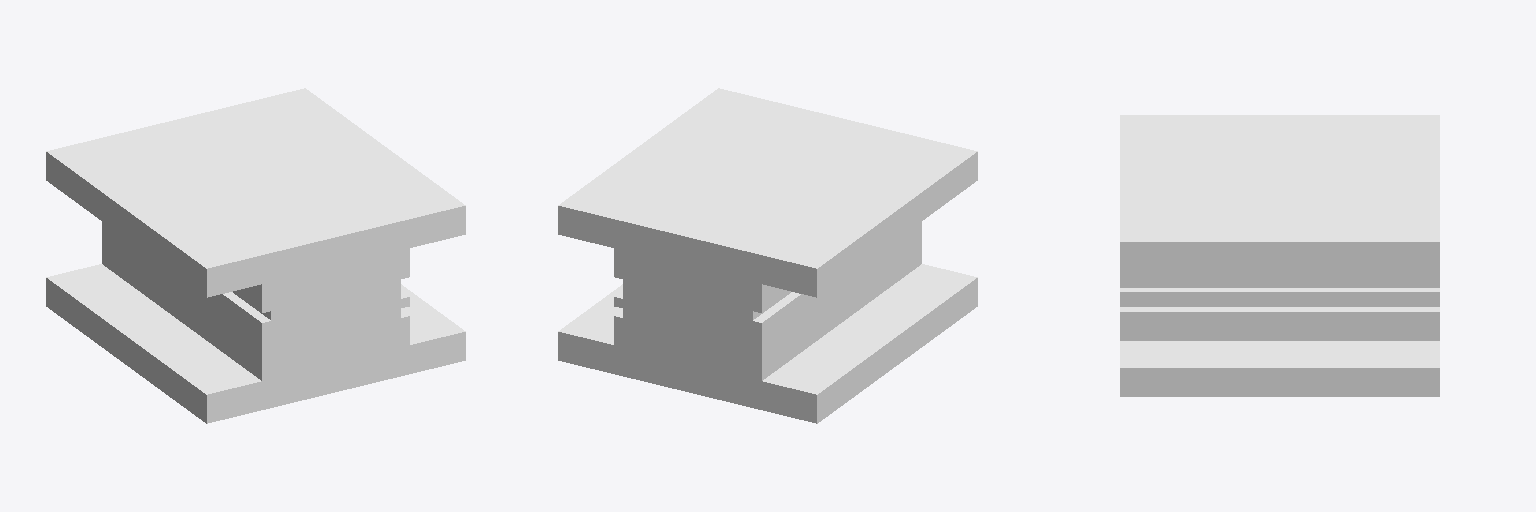
File: springBoard.obj
The picture shows the model from 3 angles: view 1: azimuth 30°, elevation 25°; view 2: azimuth 150°, elevation 25°; view 3: azimuth 270°, elevation 25°; orthographic projection.
Parts seen in each view (by area): view 1: object 1; view 2: object 1; view 3: object 1.
Boxes of the visible parts, <box> form: object 1: <box>46,88,465,423</box>; object 1: <box>558,88,977,423</box>; object 1: <box>1120,115,1439,396</box>.
Size of the model in its own units: 2.8 by 1.6 by 3.